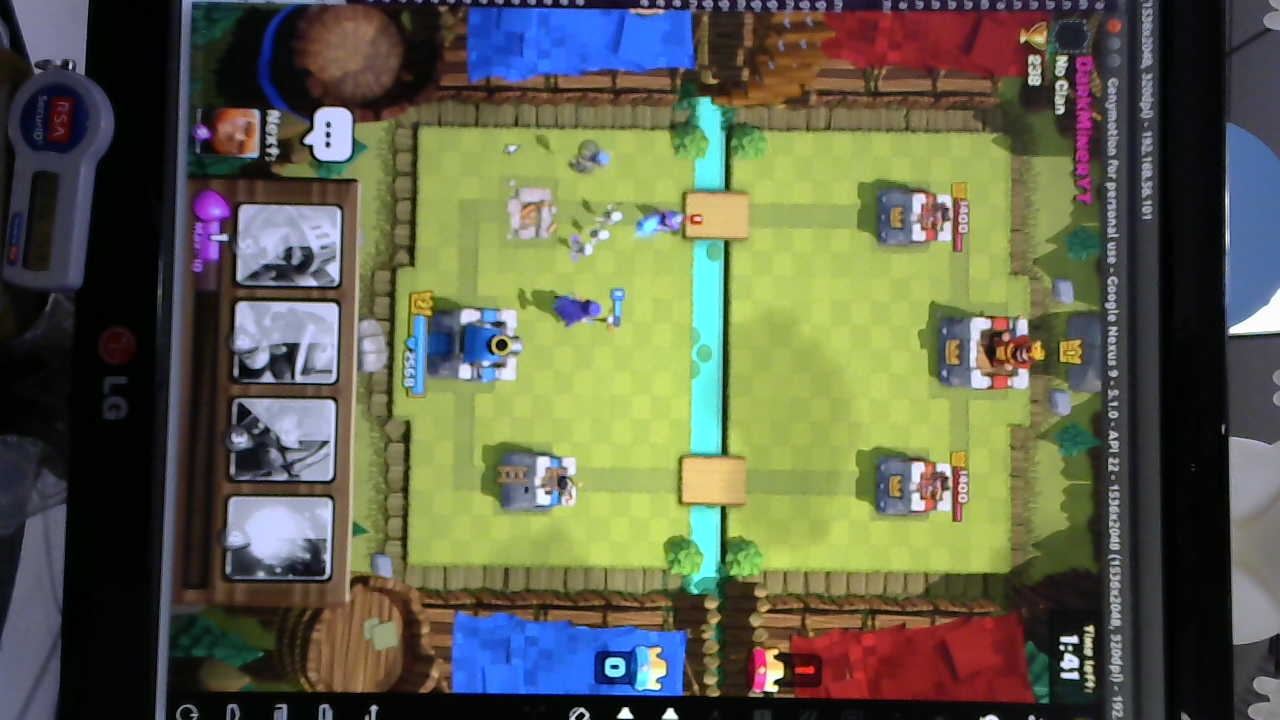arena: (503, 445, 581, 515)
bomb: (569, 140, 612, 173)
darena: (506, 183, 556, 245)
earena: (876, 454, 957, 520), (875, 190, 953, 252)
eking: (935, 312, 1039, 391)
king: (426, 301, 524, 384)
musketeer: (631, 204, 688, 235)
skeleton: (569, 205, 625, 260)
witch: (546, 292, 623, 327)
